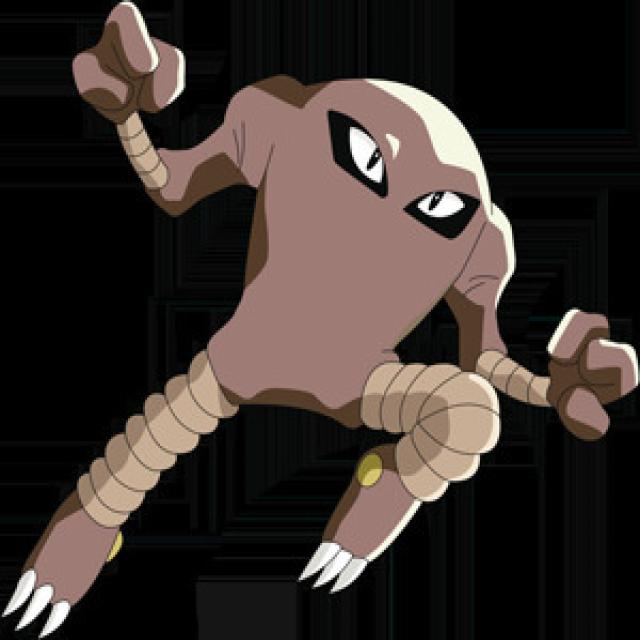Hitmonlee: (116, 63, 521, 516)
